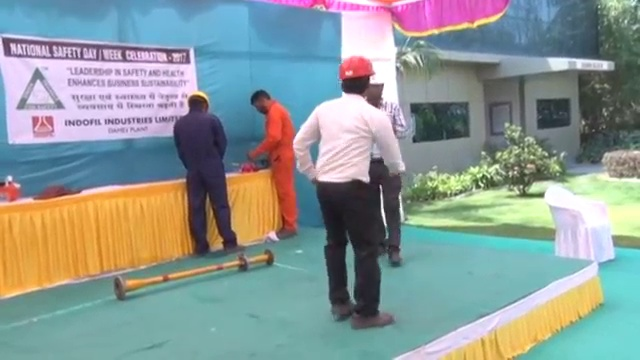helmet: (335, 55, 378, 81), (366, 66, 388, 88), (187, 90, 210, 110)
helmet_off: (246, 87, 275, 115)
helmet_on: (334, 53, 379, 103), (364, 63, 388, 106), (183, 87, 211, 116)
person: (293, 55, 405, 331), (173, 87, 246, 253), (365, 62, 407, 268), (248, 88, 303, 239)
